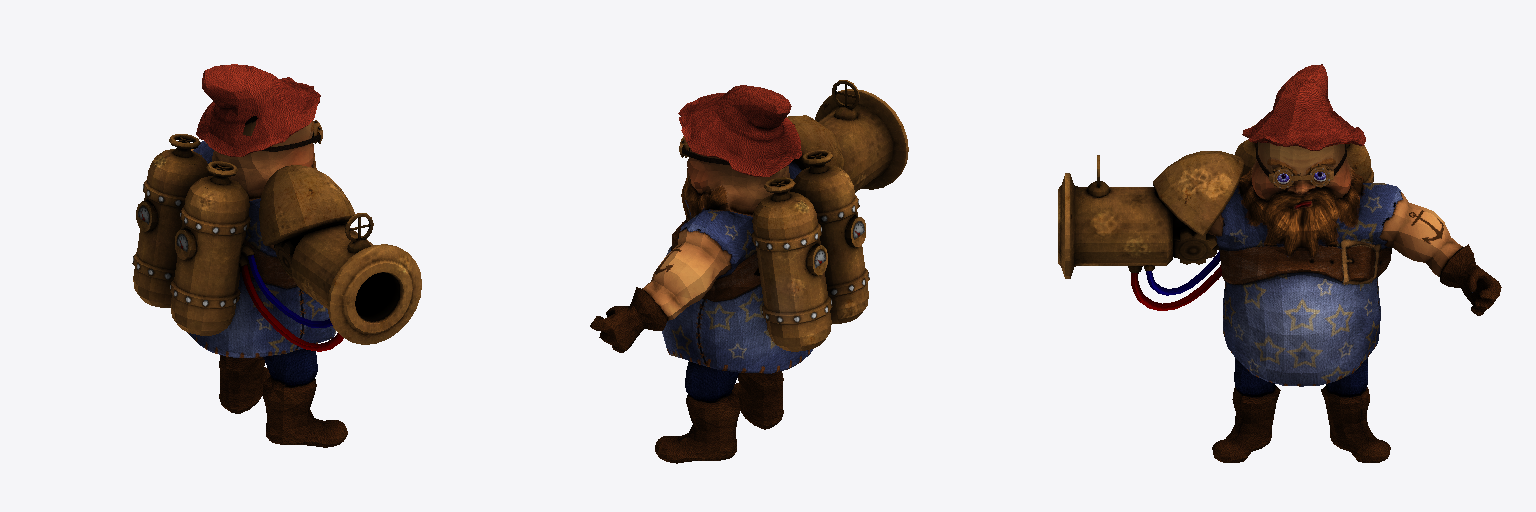
The picture shows the model from 3 angles: view 1: azimuth 30°, elevation 25°; view 2: azimuth 150°, elevation 25°; view 3: azimuth 270°, elevation 25°; orthographic projection.
Visible parts, largest first — view 1: Gnome Gnome; view 2: Gnome Gnome; view 3: Gnome Gnome.
Boxes of the visible parts, <box> form: Gnome Gnome: <box>132,64,421,447</box>; Gnome Gnome: <box>590,80,908,463</box>; Gnome Gnome: <box>1058,64,1501,462</box>.
Bounding box in the file's own units: 19.23 × 37.08 × 41.34.
Materials: 1 (1 with a texture image).